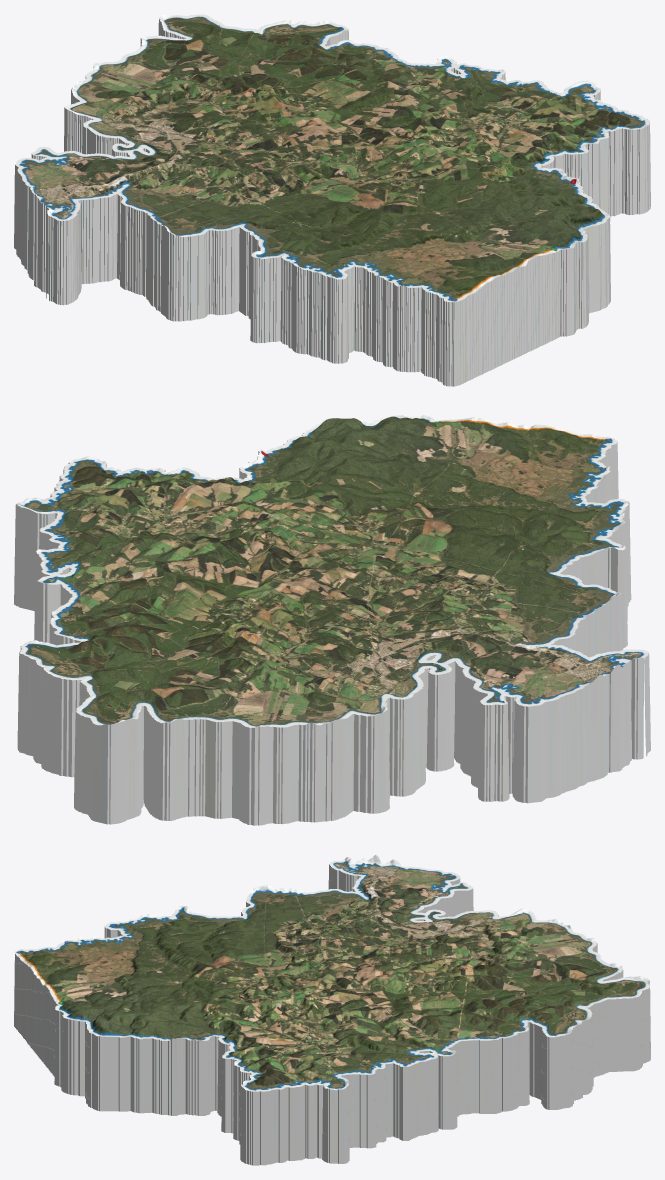
3 views of the same model, one above another, from view 1: azimuth 30°, elevation 25°; view 2: azimuth 150°, elevation 25°; view 3: azimuth 270°, elevation 25° (orthographic). The views are drawn at different scales.
Size of the model in its own units: 1 by 0.1646 by 1.15.
1 material, 1 textured.
